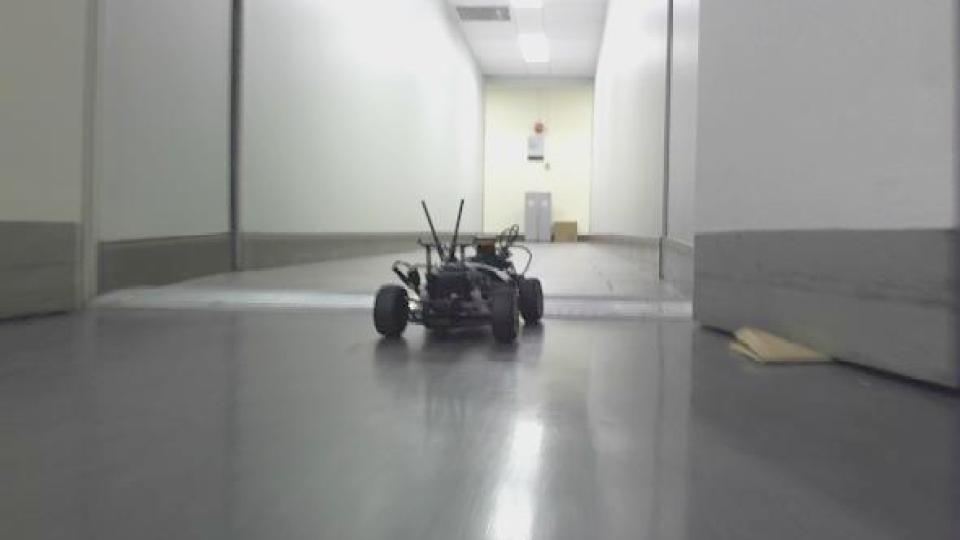car: (368, 194, 546, 348)
